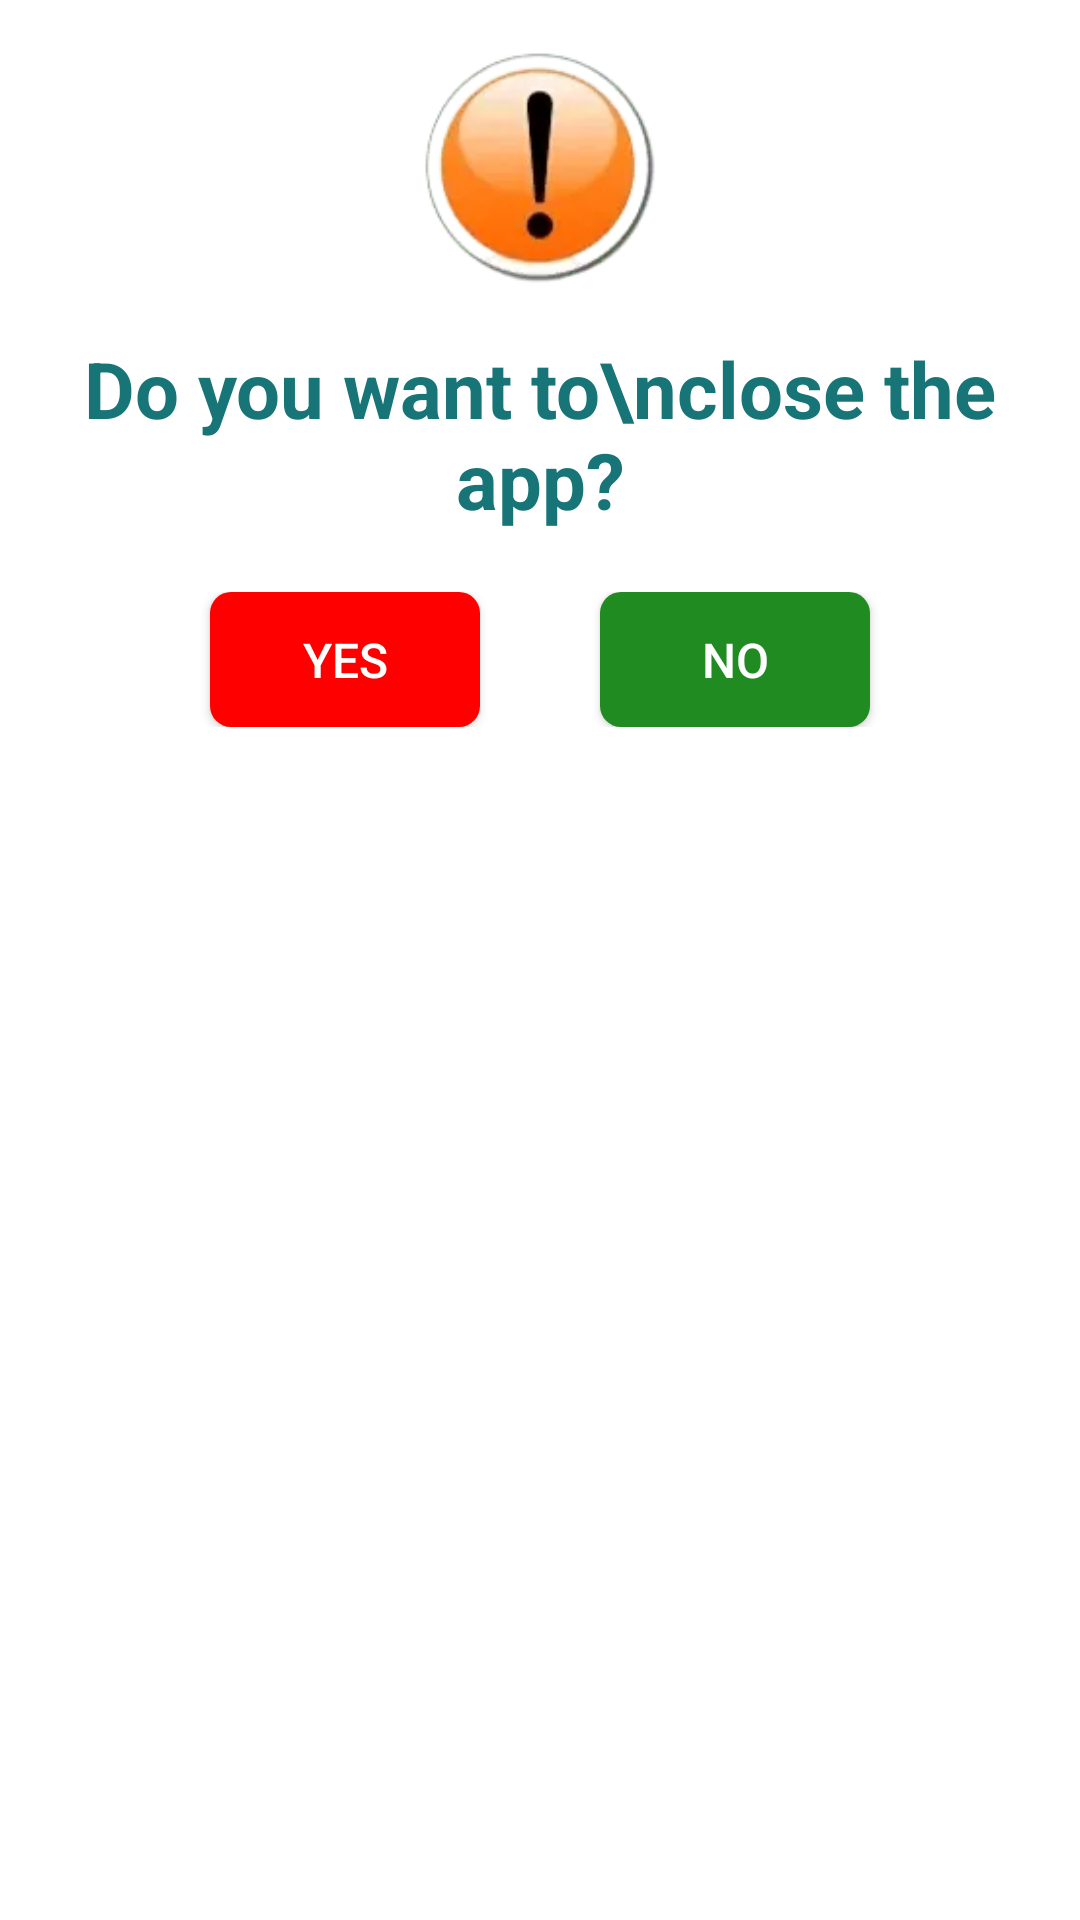

Icons on this 1080px x 1920px Android screen, each with its box as (x1=x1, y1=y1, x2=x2, y2=y2):
info exit: (x1=425, y1=53, x2=654, y2=282)
